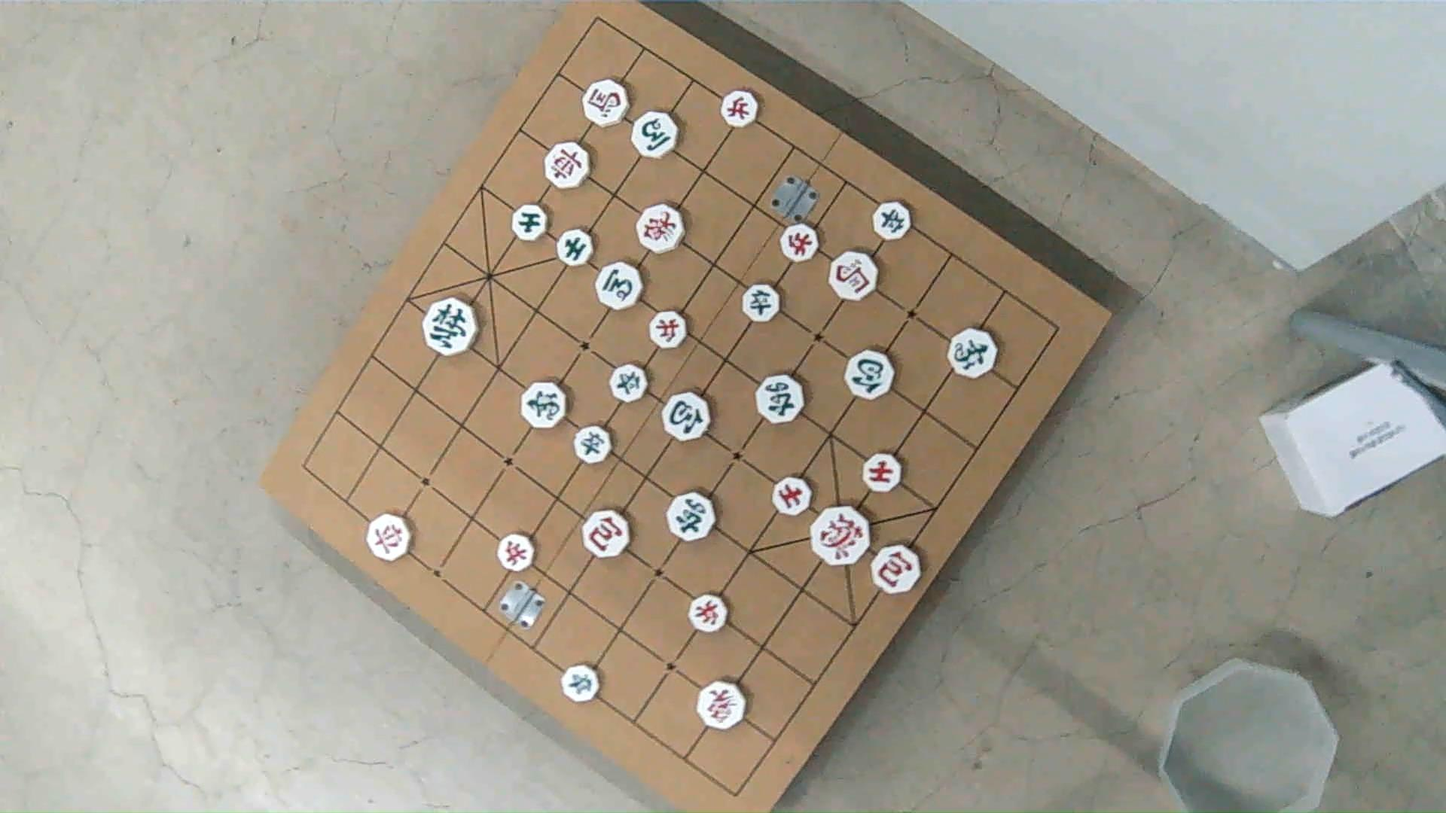cha_green: (758, 374, 807, 423), (667, 491, 716, 540)
cha_red: (368, 515, 412, 562), (544, 142, 589, 187)
jol_green: (611, 364, 651, 403), (573, 426, 613, 464), (562, 664, 601, 702), (873, 201, 911, 239), (742, 285, 779, 321)
jol_red: (688, 593, 728, 632), (782, 224, 821, 263), (495, 534, 533, 572), (719, 93, 757, 129), (651, 311, 688, 347)
ma_green: (596, 261, 642, 309), (632, 112, 678, 160)
ma_red: (830, 253, 879, 301), (585, 82, 631, 128)
po_green: (662, 392, 711, 440), (847, 349, 895, 398)
po_red: (584, 510, 633, 559), (871, 546, 921, 594)
sa_green: (557, 229, 593, 265), (511, 205, 546, 242)
sa_red: (862, 454, 904, 493), (772, 476, 813, 514)
sang_green: (947, 329, 996, 379), (520, 383, 566, 430)
sang_red: (698, 681, 748, 729), (636, 206, 683, 254)
wang_green: (424, 297, 477, 355)
wang_red: (813, 507, 873, 565)
